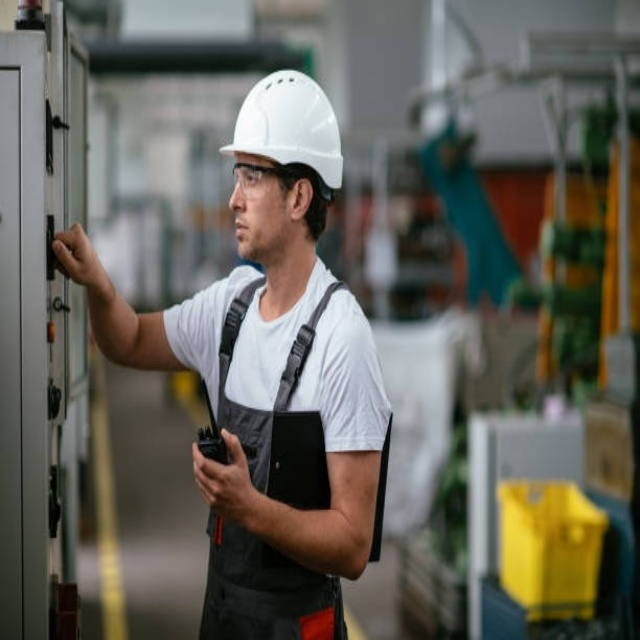Gafas: (230, 158, 293, 201)
Sin_guantes: (191, 427, 254, 521), (53, 213, 107, 296)
Sin_mascara: (232, 215, 257, 256)
